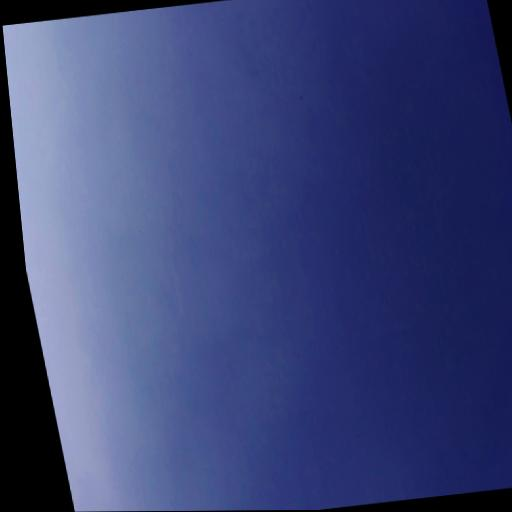drones: (296, 88, 309, 108)
